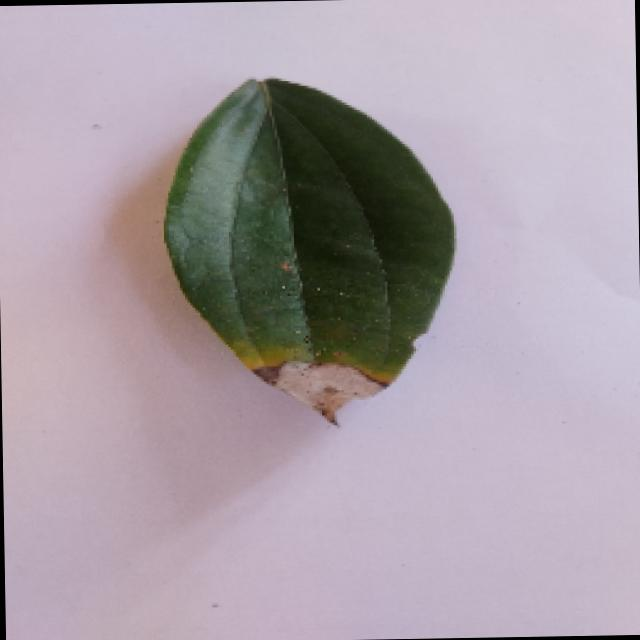footrot: (150, 60, 467, 425)
